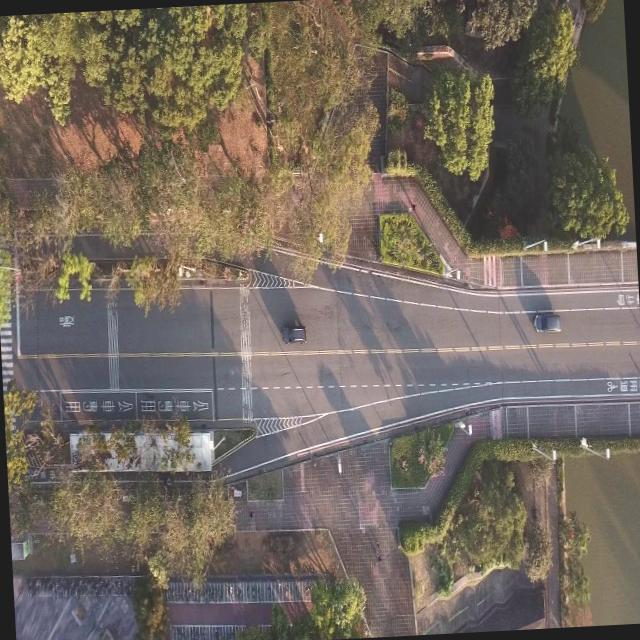car: (278, 321, 314, 352), (534, 310, 562, 332)
